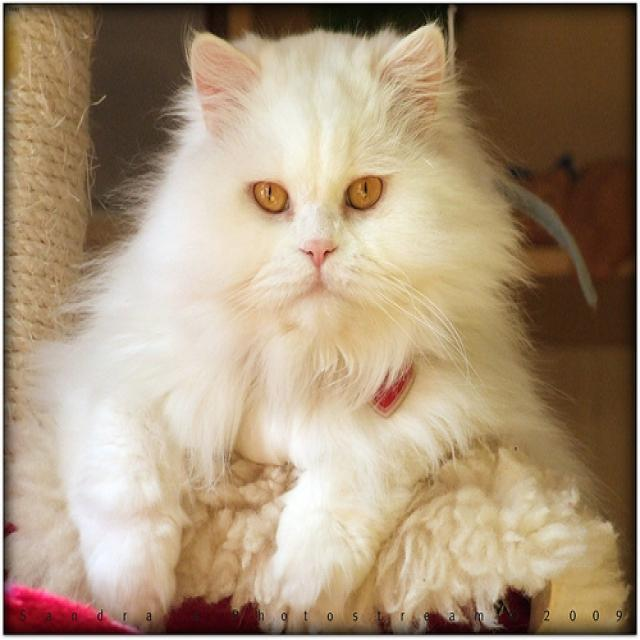Persian: (187, 18, 444, 329)
